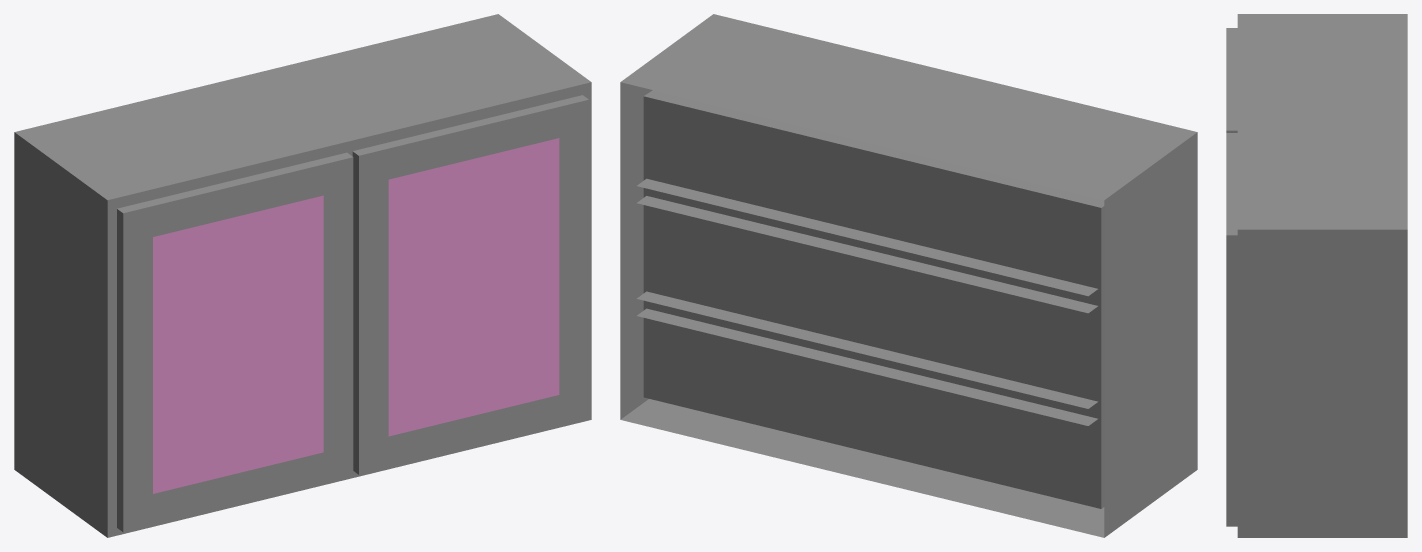
Rendered from SM_Cabinet.FBX.
3 views of the same model, side by side, from view 1: azimuth 30°, elevation 25°; view 2: azimuth 150°, elevation 25°; view 3: azimuth 270°, elevation 25° (orthographic). The views are drawn at different scales.
Visible parts, largest first — view 1: Cabinet, Box003, Box004; view 2: Cabinet; view 3: Cabinet, Box004, Box003.
Boxes of the visible parts, bbox=[...] form: Cabinet: bbox=[14, 14, 591, 537]; Box003: bbox=[117, 152, 353, 532]; Box004: bbox=[352, 95, 588, 474]; Cabinet: bbox=[620, 14, 1197, 537]; Cabinet: bbox=[1237, 14, 1407, 537]; Box004: bbox=[1226, 133, 1237, 526]; Box003: bbox=[1226, 28, 1237, 132].
Bounding box in the file's own units: 192 × 128 × 68.33.
